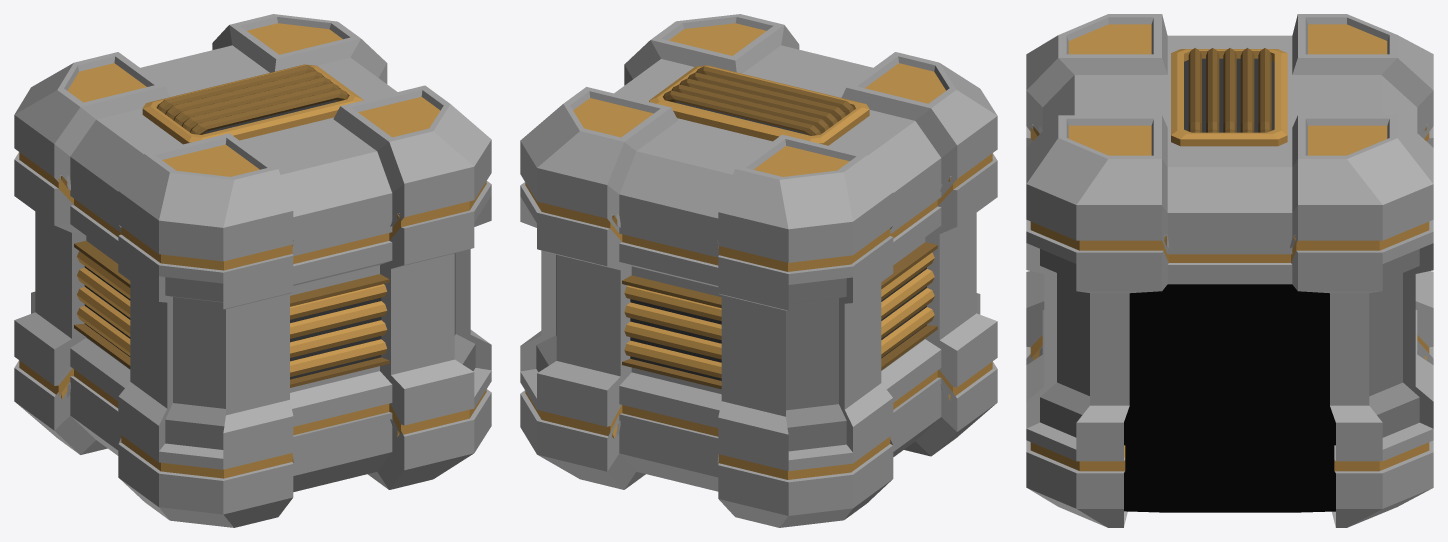
Rendered from node_start_end.glb.
The picture shows the model from 3 angles, left to right: view 1: azimuth 30°, elevation 25°; view 2: azimuth 150°, elevation 25°; view 3: azimuth 270°, elevation 25°; orthographic projection. The views are drawn at different scales.
Parts seen in each view (by area): view 1: Props_Crate; view 2: Props_Crate; view 3: Props_Crate.
Boxes of the visible parts, x1,y1,x2,y2 form: Props_Crate: (14, 14, 491, 527); Props_Crate: (520, 14, 997, 527); Props_Crate: (1026, 14, 1433, 527).
Bounding box in the file's own units: 1.99 × 2 × 1.99.
